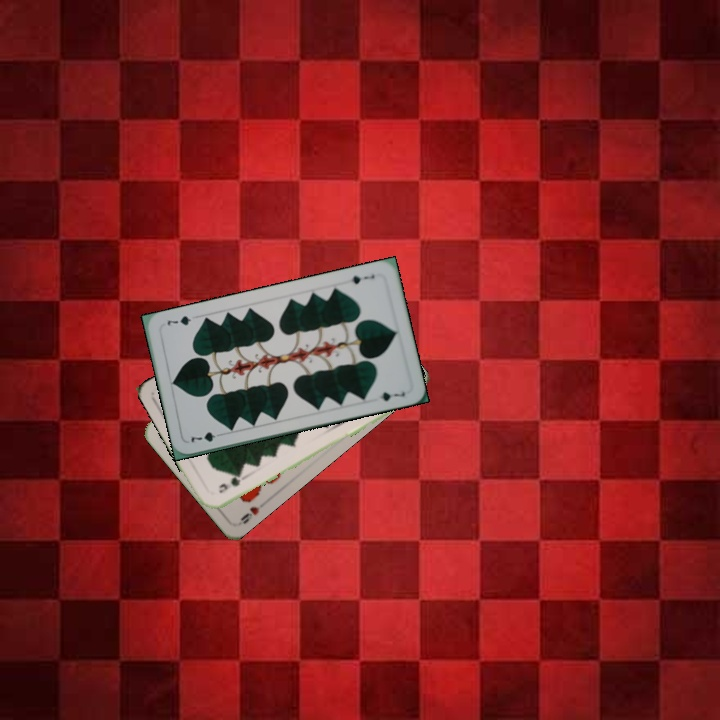G7: (187, 428, 226, 445), (347, 270, 377, 287)
G9: (215, 471, 248, 496)
H9: (236, 502, 262, 526)
